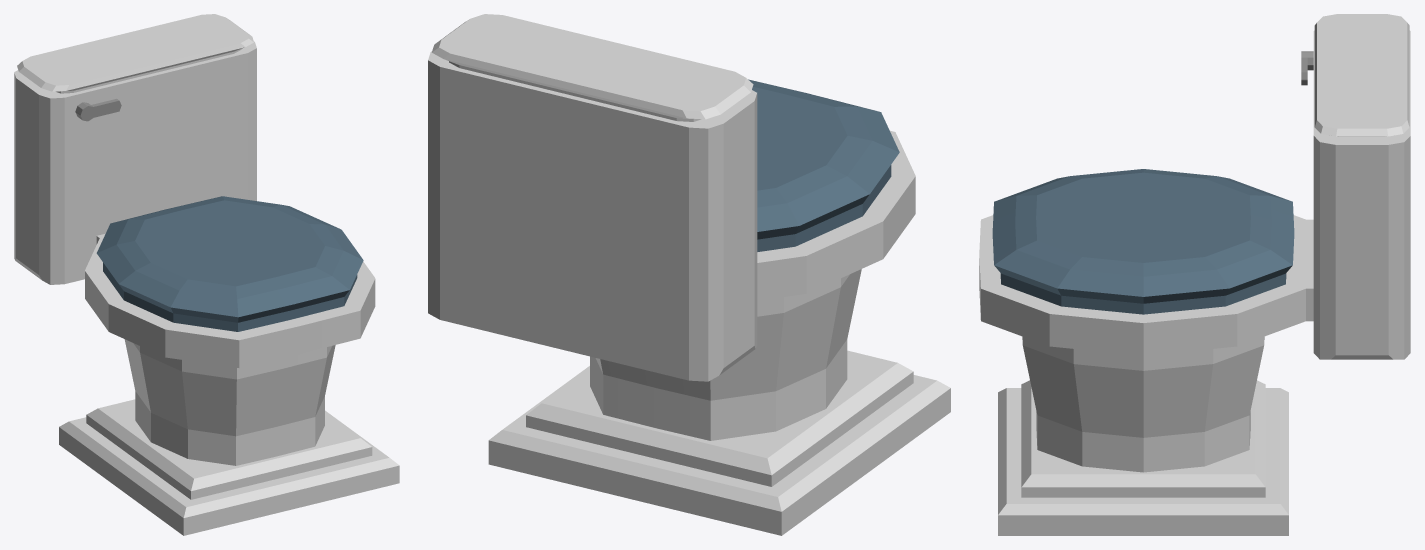
The model's file is Bathroom Toilet.glb.
3 renders of one model, left to right at view 1: azimuth 30°, elevation 25°; view 2: azimuth 150°, elevation 25°; view 3: azimuth 270°, elevation 25°, orthographic. The views are drawn at different scales.
Parts seen in each view (by area): view 1: Toilet; view 2: Toilet; view 3: Toilet.
Part boxes in pixels (box(x1,y1,x2,y2)): Toilet: box(14, 14, 399, 535); Toilet: box(428, 14, 950, 535); Toilet: box(979, 14, 1410, 535).
Bounding box in the file's own units: 0.6987 × 0.9507 × 0.9221.
1 material, 1 textured.
